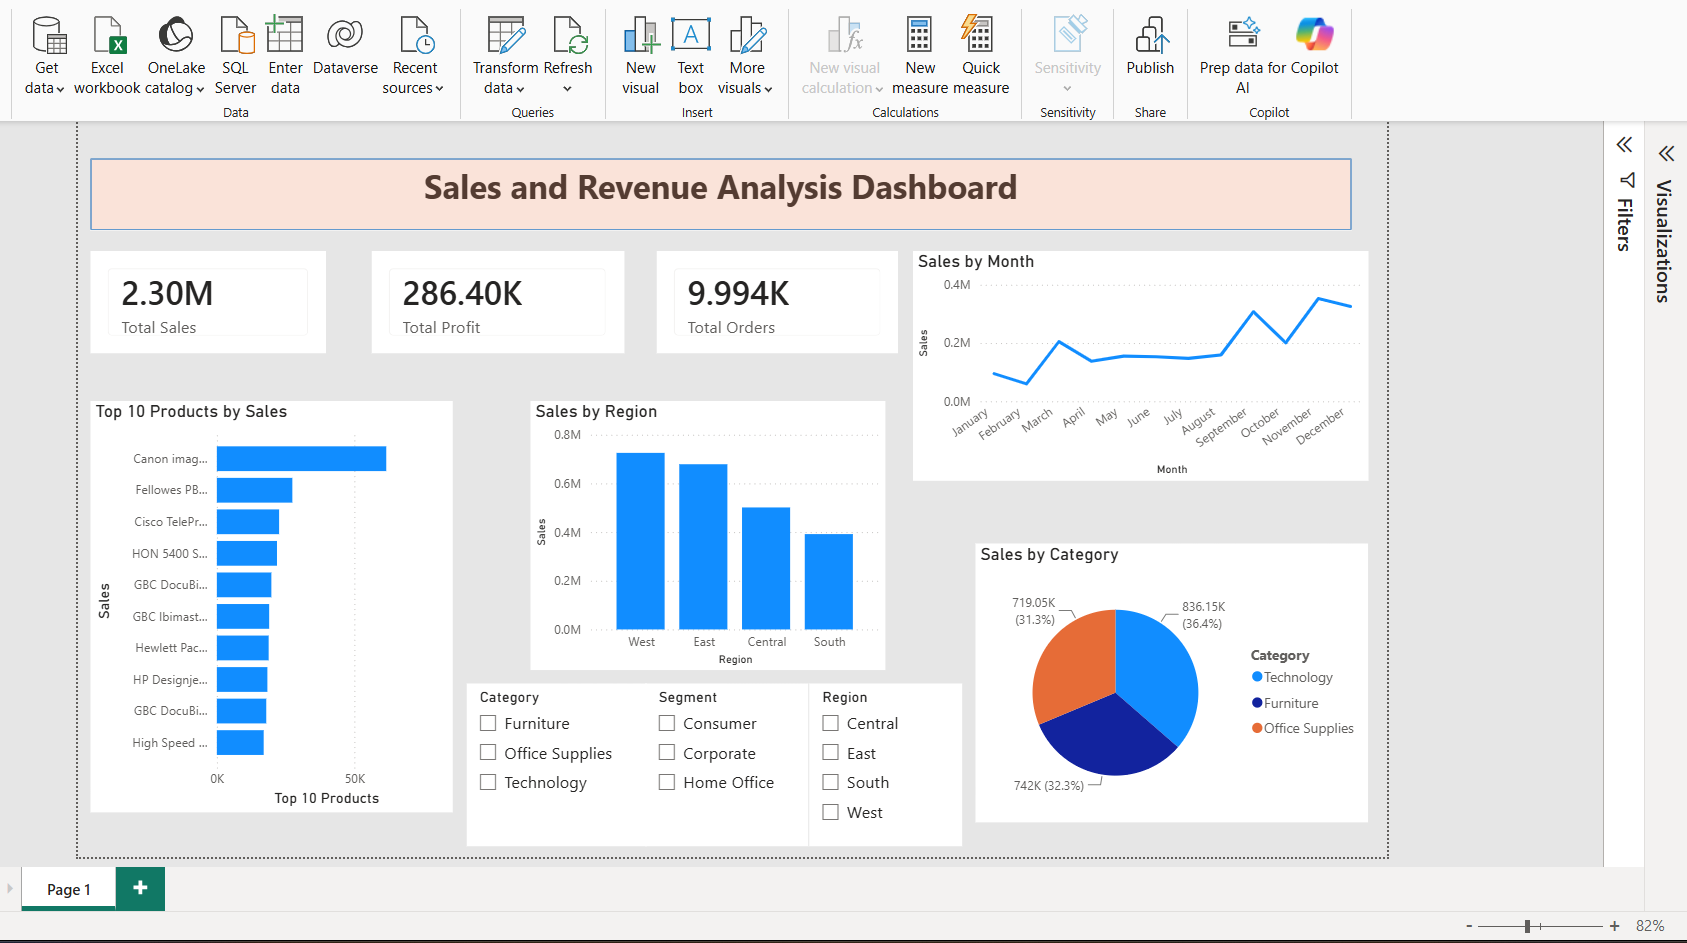

The page's visual inventory and layout, read from the dashboard file:
{"tool":"powerbi","page":{"name":"Page 1","canvas":[1280,720],"ordinal":0},"visuals":[{"type":"cardVisual","fields":{"Data":["Sum(Orders.Profit)"]},"box":[286.8,127.6,247,100.2],"z":0},{"type":"cardVisual","fields":{"Data":["Sum(Orders.Sales)"]},"box":[12.3,127.6,230.5,100.2],"z":1000},{"type":"cardVisual","fields":{"Data":["CountNonNull(Orders.Row ID)"]},"box":[566.7,127.6,236,100.2],"z":2000},{"type":"lineChart","fields":{"Category":["Orders.Order Date.Variation.Date Hierarchy.Month"],"Y":["Sum(Orders.Sales)"]},"box":[816.5,127.6,446,225],"z":3000},{"type":"clusteredBarChart","fields":{"Category":["Orders.Product Name"],"Y":["Sum(Orders.Sales)"]},"box":[12.3,274.4,354,402.1],"z":4000},{"type":"pieChart","fields":{"Category":["Orders.Category"],"Y":["Sum(Orders.Sales)"]},"box":[878.2,413,384.2,273.1],"z":5000},{"type":"clusteredColumnChart","fields":{"Category":["Orders.Region"],"Y":["Sum(Orders.Sales)"]},"box":[443.2,274.4,347.2,263.5],"z":6000},{"type":"slicer","fields":{"Values":["Orders.Region"]},"box":[714.9,550.3,149.6,159.2],"z":7000},{"type":"slicer","fields":{"Values":["Orders.Category"]},"box":[380.1,550.3,175.6,159.2],"z":8000},{"type":"slicer","fields":{"Values":["Orders.Segment"]},"box":[555.7,550.3,159.2,159.2],"z":9000},{"type":"textbox","box":[11.7,36.7,1233.3,70],"z":11000},{"type":"shape","box":[12.3,37,1233.6,70],"z":11001}]}

Visuals, with their boxes on the page's 1280x720 design canvas (x1, y1, x2, y2). These are canvas units, not pixel positions in the 1687x943 screenshot, which may show the page scaled, cropped or inside an application window:
cardVisual - Sum(Orders.Profit): pyautogui.locateOnScreen(287, 128, 534, 228)
cardVisual - Sum(Orders.Sales): pyautogui.locateOnScreen(12, 128, 243, 228)
cardVisual - CountNonNull(Orders.Row ID): pyautogui.locateOnScreen(567, 128, 803, 228)
lineChart - Orders.Order Date.Variation.Date Hierarchy.Month x Sum(Orders.Sales): pyautogui.locateOnScreen(816, 128, 1262, 353)
clusteredBarChart - Orders.Product Name x Sum(Orders.Sales): pyautogui.locateOnScreen(12, 274, 366, 676)
pieChart - Orders.Category x Sum(Orders.Sales): pyautogui.locateOnScreen(878, 413, 1262, 686)
clusteredColumnChart - Orders.Region x Sum(Orders.Sales): pyautogui.locateOnScreen(443, 274, 790, 538)
slicer - Orders.Region: pyautogui.locateOnScreen(715, 550, 864, 710)
slicer - Orders.Category: pyautogui.locateOnScreen(380, 550, 556, 710)
slicer - Orders.Segment: pyautogui.locateOnScreen(556, 550, 715, 710)
textbox: pyautogui.locateOnScreen(12, 37, 1245, 107)
shape: pyautogui.locateOnScreen(12, 37, 1246, 107)
